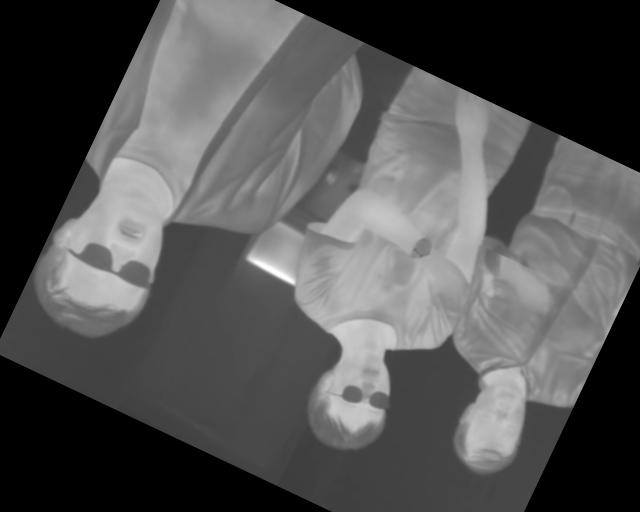face: (18, 167, 188, 356), (293, 338, 413, 467), (441, 367, 544, 486)
